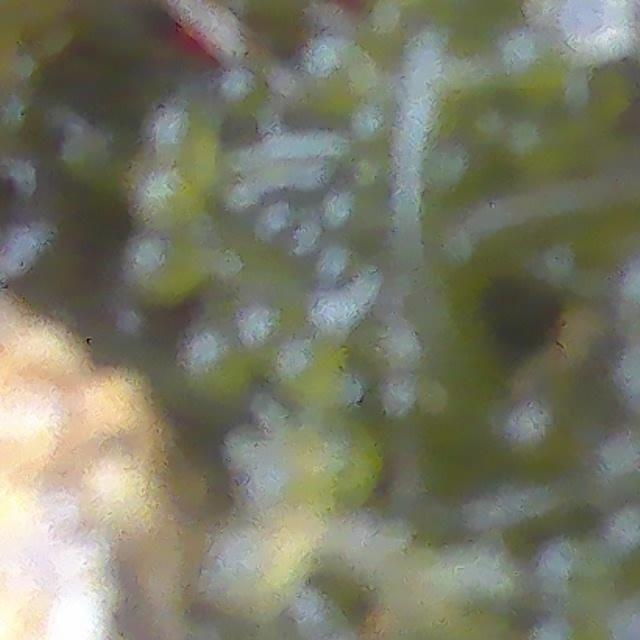SeaGrape: (550, 0, 624, 54)
